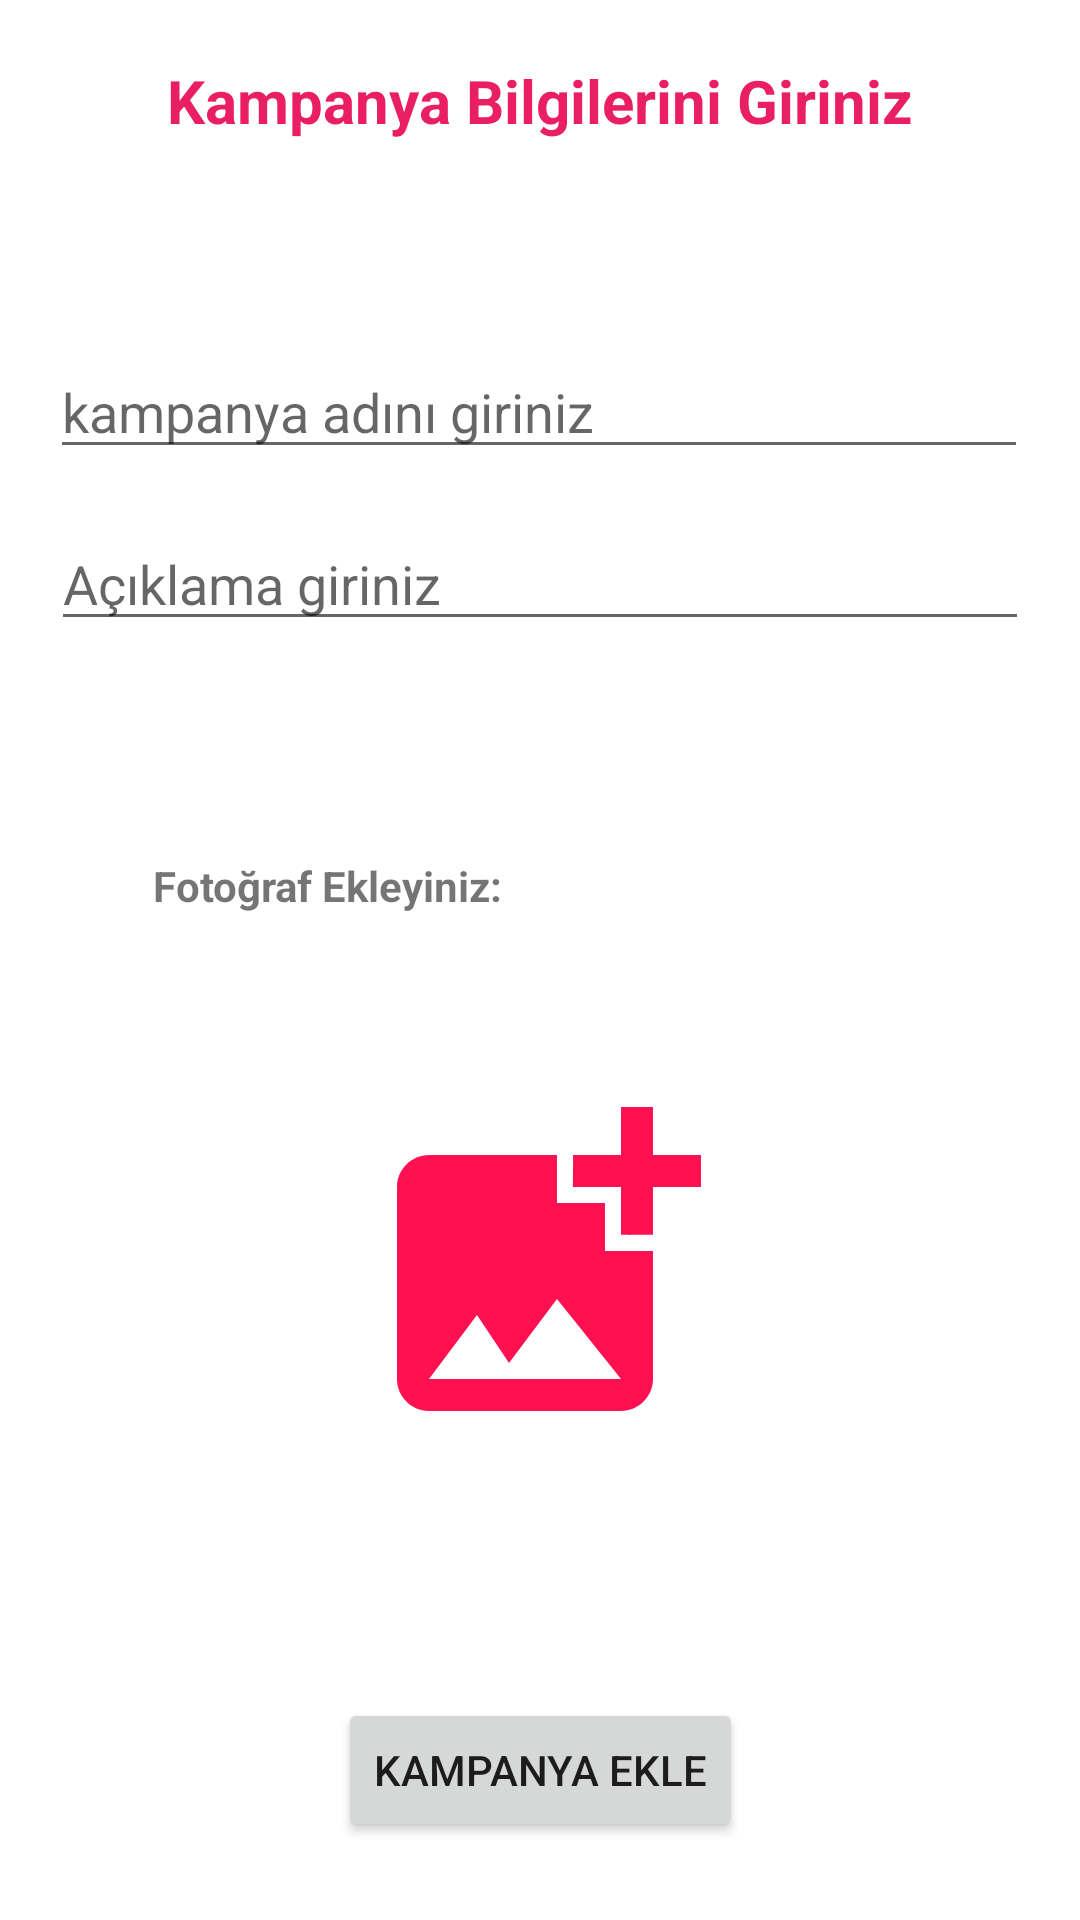

Icons on this 1080px×1920px Android screen, each with its box as (x1=x1, y1=y1, x2=x2, y2=y2):
add photo alternate: (x1=397, y1=1107, x2=701, y2=1411)
